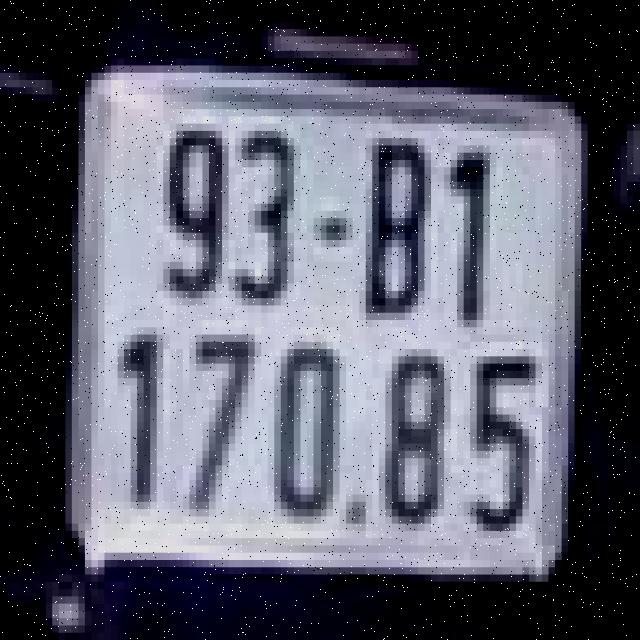0: (277, 334, 343, 516)
1: (108, 324, 166, 520), (441, 146, 493, 328)
3: (235, 127, 301, 309)
5: (467, 346, 539, 534)
7: (190, 324, 262, 520)
8: (385, 346, 451, 528)
9: (160, 124, 225, 306)
B: (359, 138, 431, 327)
